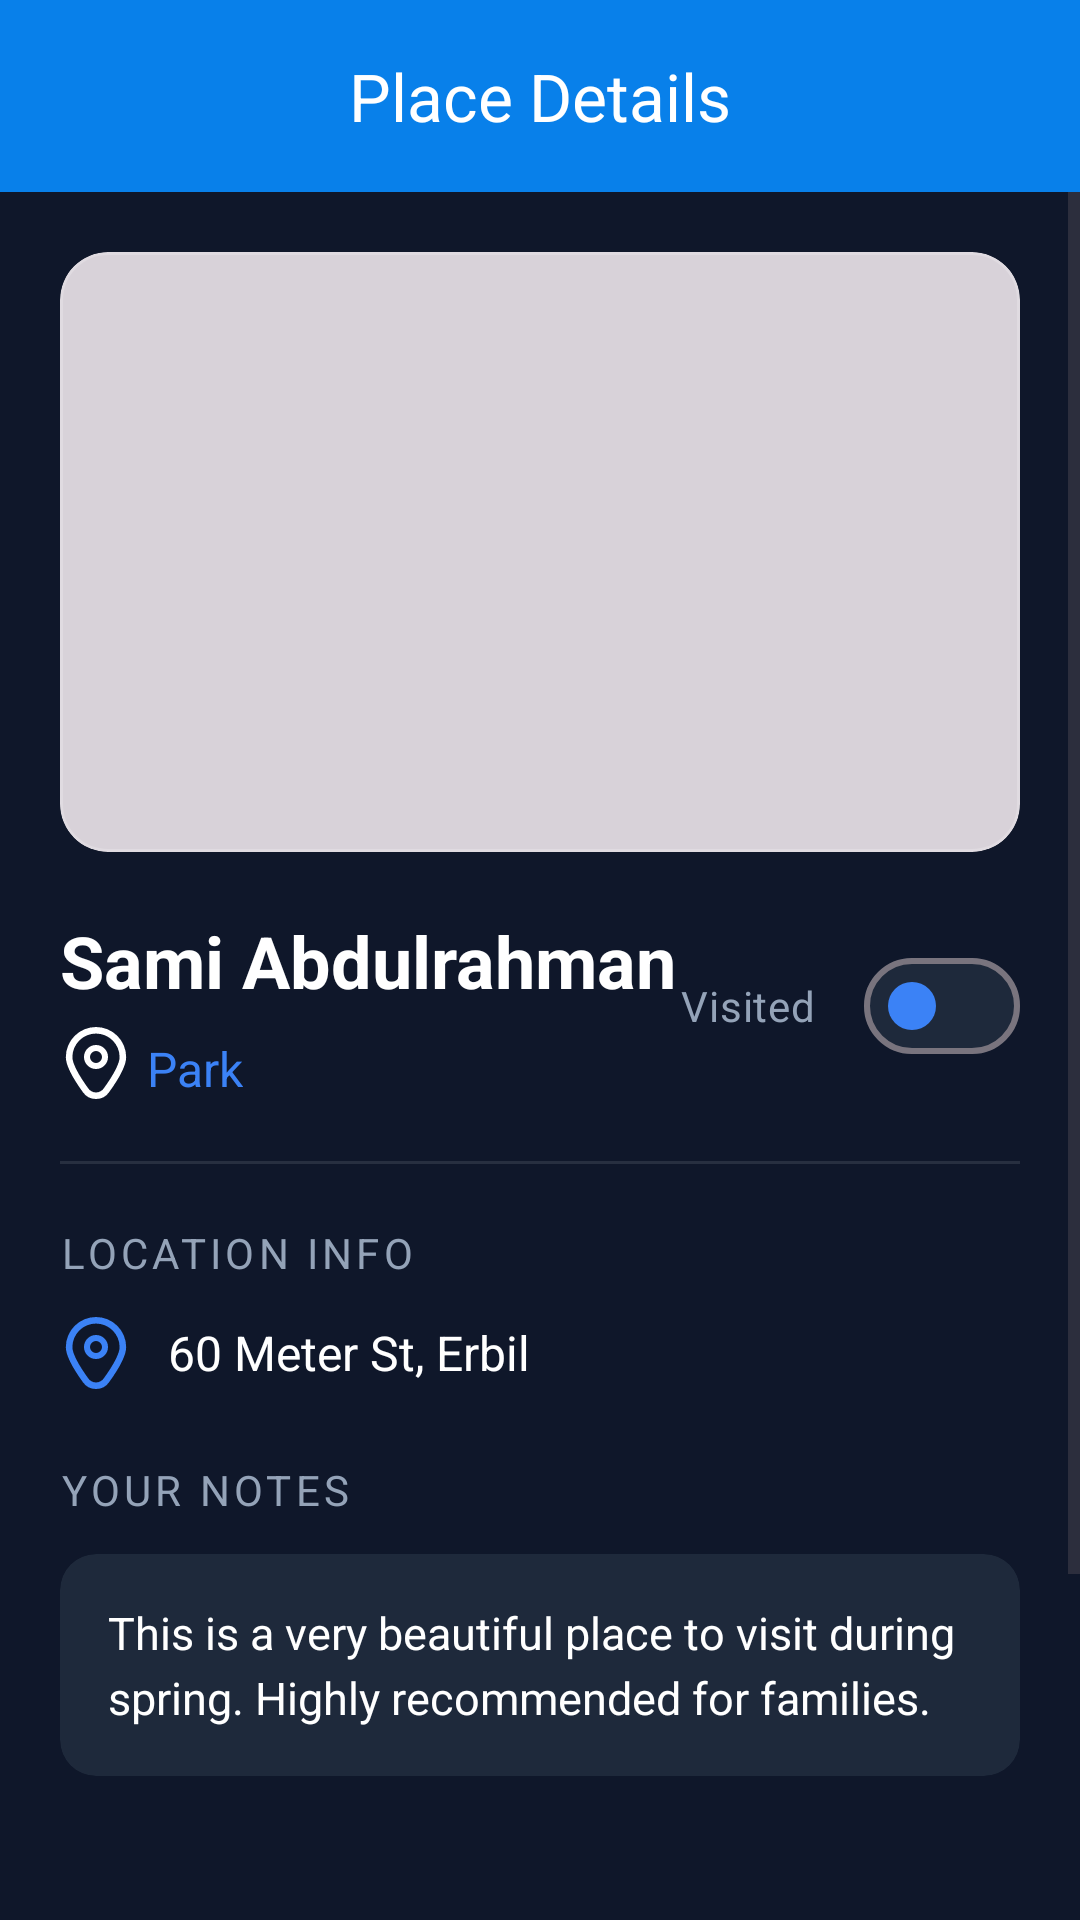

Icons on this 1080x1920 Android screen, each with the point to tap as (x,y):
marker: (96,1063), (96,1353)
